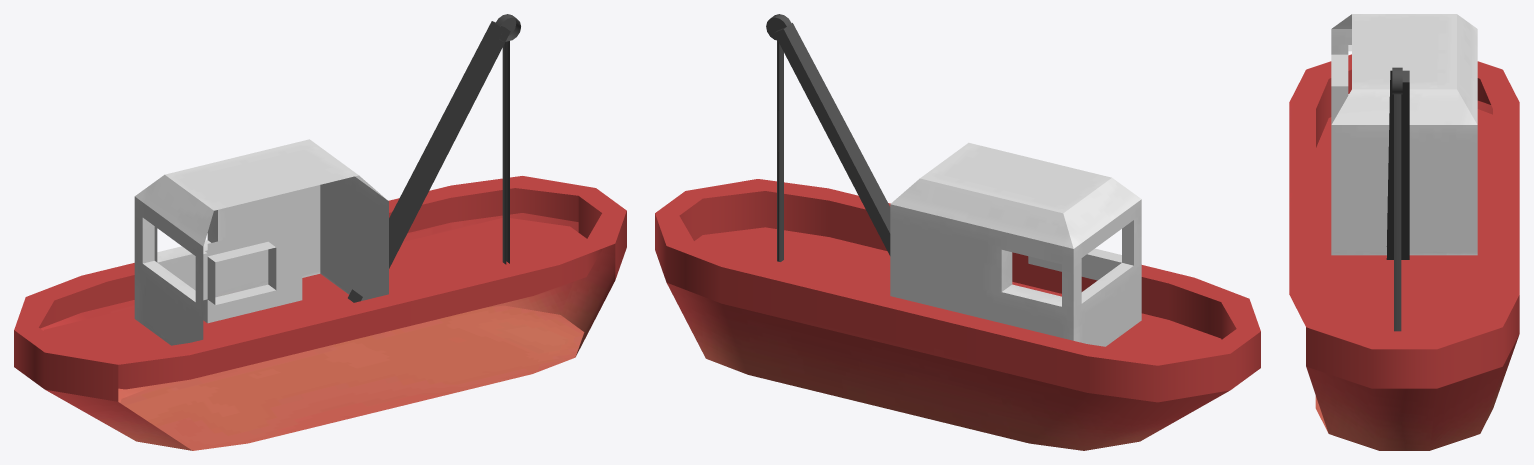
File: Ship.fbx
3 views of the same model, side by side, from view 1: azimuth 30°, elevation 25°; view 2: azimuth 150°, elevation 25°; view 3: azimuth 270°, elevation 25° (orthographic). The views are drawn at different scales.
Visible parts, largest first — view 1: pCube4; view 2: pCube4; view 3: pCube4.
Part boxes in pixels (bbox=[...]): pCube4: bbox=[14, 14, 626, 450]; pCube4: bbox=[655, 14, 1260, 450]; pCube4: bbox=[1289, 14, 1519, 450].
Bounding box in the file's own units: 13.01 × 6.97 × 4.2.
